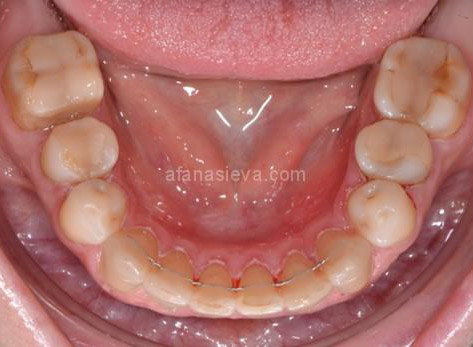LL1BC_healthy: (363, 181, 415, 261)
LL1M_decay: (374, 37, 468, 128)
LL2BC_healthy: (355, 121, 432, 179)
LLCI_decay: (237, 267, 281, 317)
LLC_healthy: (328, 232, 372, 294)
LLLI_decay: (279, 254, 327, 311)
LR1BC_healthy: (60, 182, 127, 244)
LR1M_decay: (8, 32, 103, 118)
LR2BC_healthy: (41, 118, 119, 183)
LRCI_decay: (195, 265, 235, 316)
LRC_decay: (107, 230, 156, 284)
LRLI_decay: (155, 250, 192, 305)
